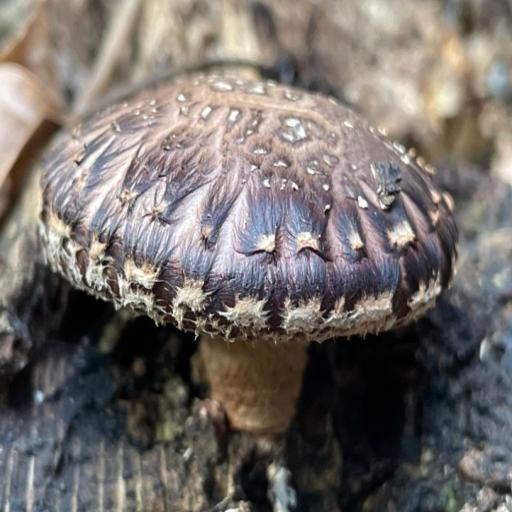Shiitake Mushroom: (8, 0, 481, 452)
